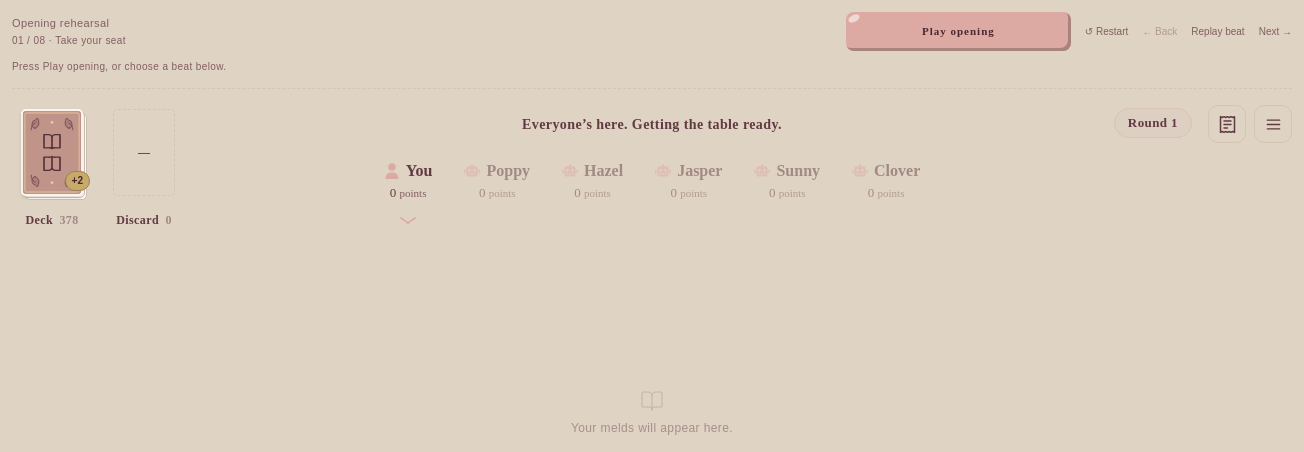
Test: reaches the dealer promptly during continuous playback
Click the button "Play opening". click: (958, 32)
box: x1=846 y1=12 x2=1071 y2=51
Wait 1000 ms
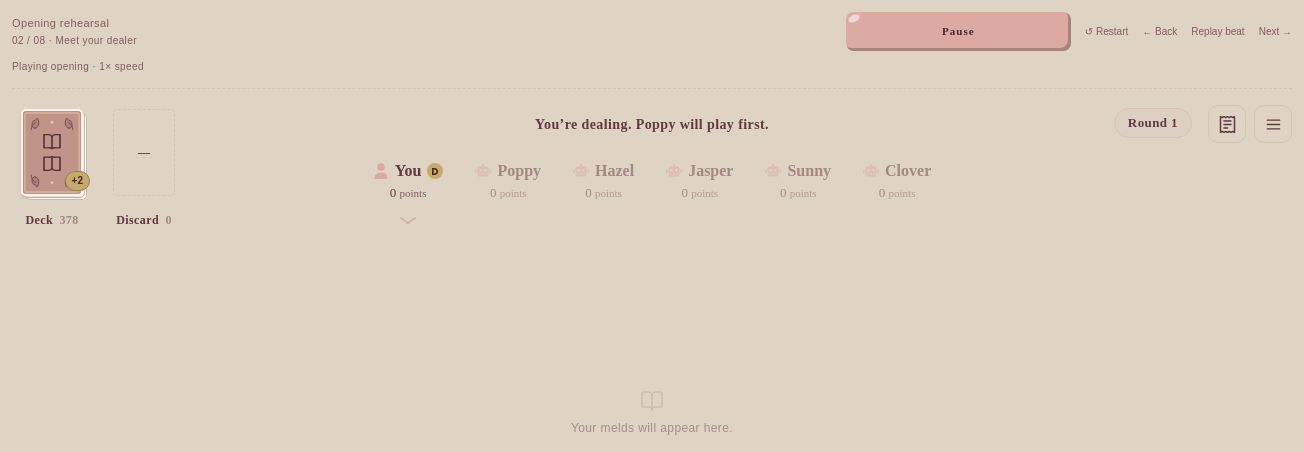
Expected: the picture named "Dealer" is shown, x1=428 y1=163 x2=444 y2=179
Expected: the text "02 / 08 · Meet your dealer" is shown, x1=12 y1=35 x2=137 y2=46
